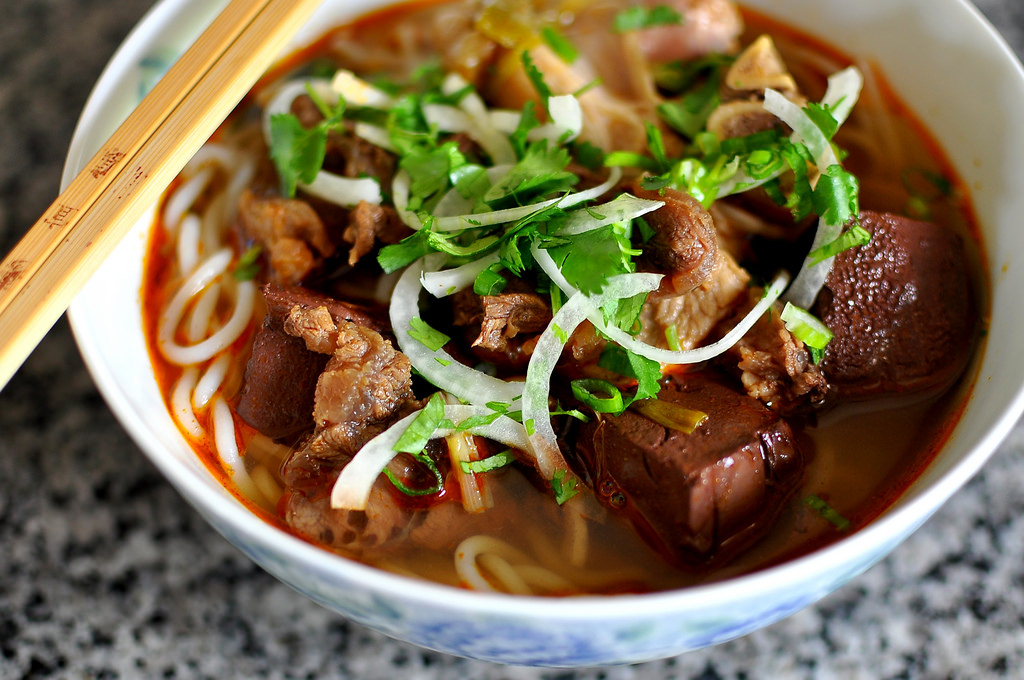beef: (249, 285, 401, 451), (272, 435, 463, 543), (463, 289, 645, 379), (638, 188, 750, 325), (243, 188, 391, 289)
onion: (407, 132, 617, 292)
